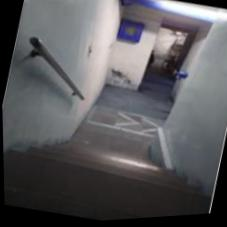Animal: (33, 116, 172, 211)
